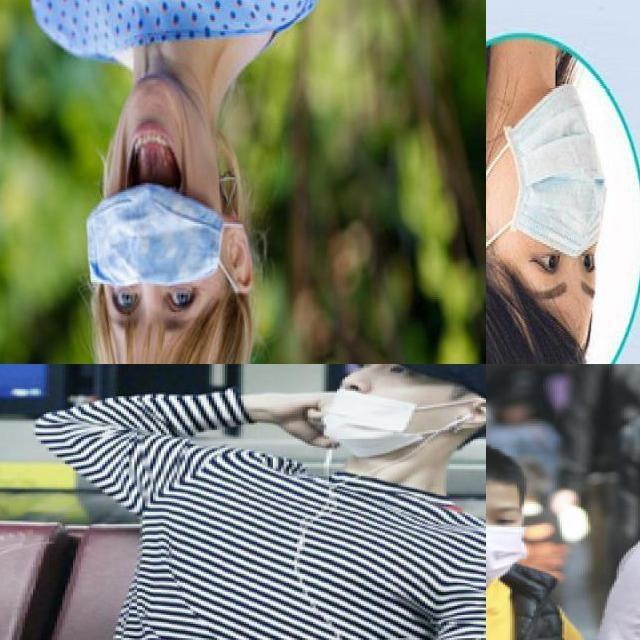hairnet: (86, 123, 232, 280), (320, 364, 423, 457)
